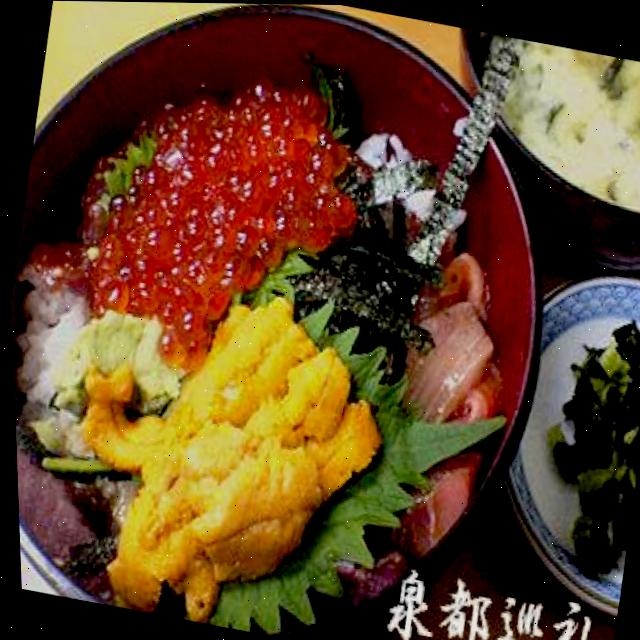刺身生食: (0, 0, 597, 580)
